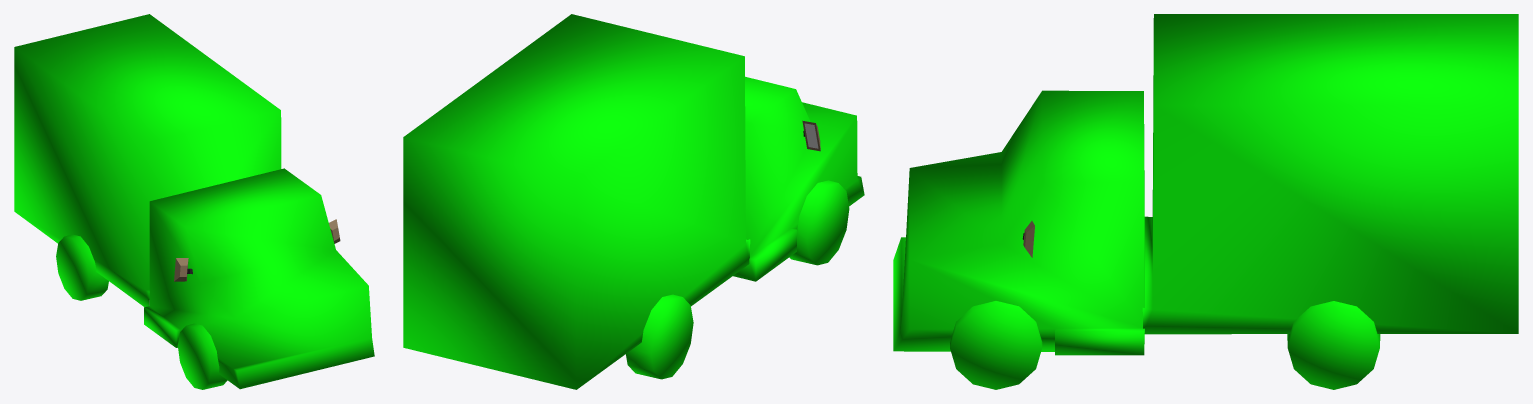
File: Truck_Mesh.fbx
3 views of the same model, side by side, from view 1: azimuth 30°, elevation 25°; view 2: azimuth 150°, elevation 25°; view 3: azimuth 270°, elevation 25° (orthographic). The views are drawn at different scales.
Parts seen in each view (by area): view 1: Truck_Outline, Truck; view 2: Truck_Outline, Truck; view 3: Truck_Outline.
Part boxes in pixels (<box>): Truck_Outline: <box>14,14,374,389</box>; Truck: <box>149,219,340,305</box>; Truck_Outline: <box>403,14,864,389</box>; Truck: <box>802,120,820,151</box>; Truck_Outline: <box>893,14,1518,389</box>.
Bounding box in the file's own units: 439 × 508 × 1030.
